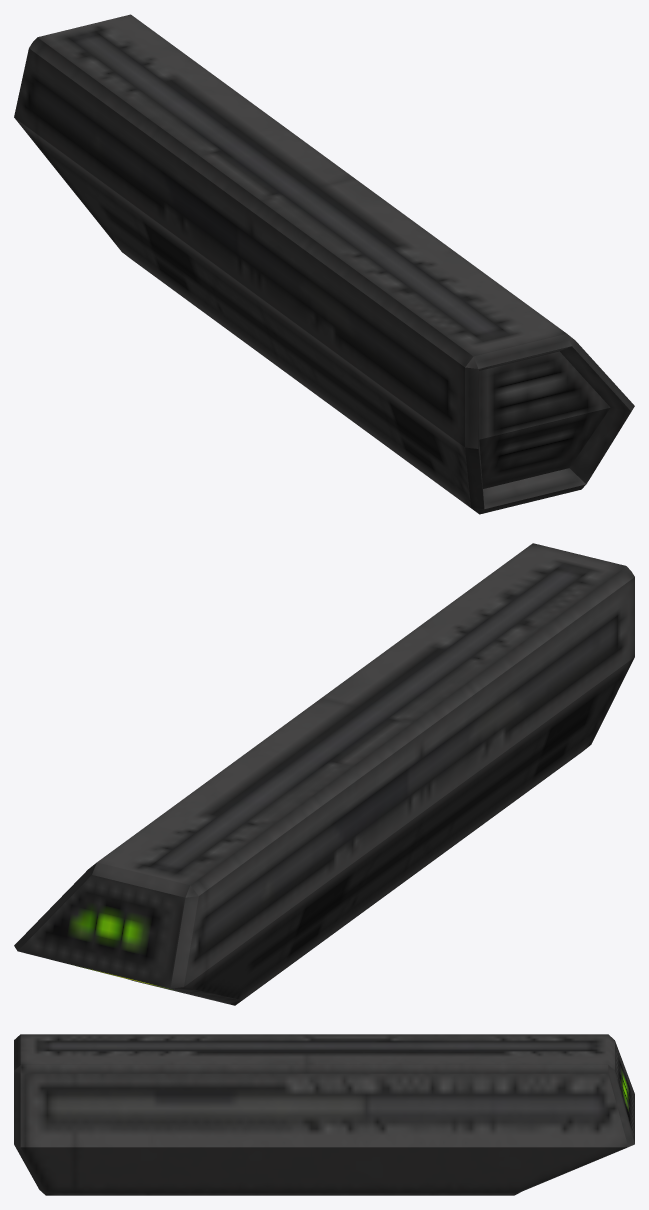
Rendered from BFP_SmallEngine01_Left.FBX.
3 views of the same model, one above another, from view 1: azimuth 30°, elevation 25°; view 2: azimuth 150°, elevation 25°; view 3: azimuth 270°, elevation 25° (orthographic). The views are drawn at different scales.
Visible parts, largest first — view 1: BFP_SmallEngine01_Left; view 2: BFP_SmallEngine01_Left; view 3: BFP_SmallEngine01_Left.
Boxes of the visible parts, x1,y1,x2,y2 form: BFP_SmallEngine01_Left: (14,14,634,514); BFP_SmallEngine01_Left: (14,543,634,1005); BFP_SmallEngine01_Left: (14,1034,634,1195).
Bounding box in the file's own units: 44.29 × 44.29 × 208.
1 material, 1 textured.
